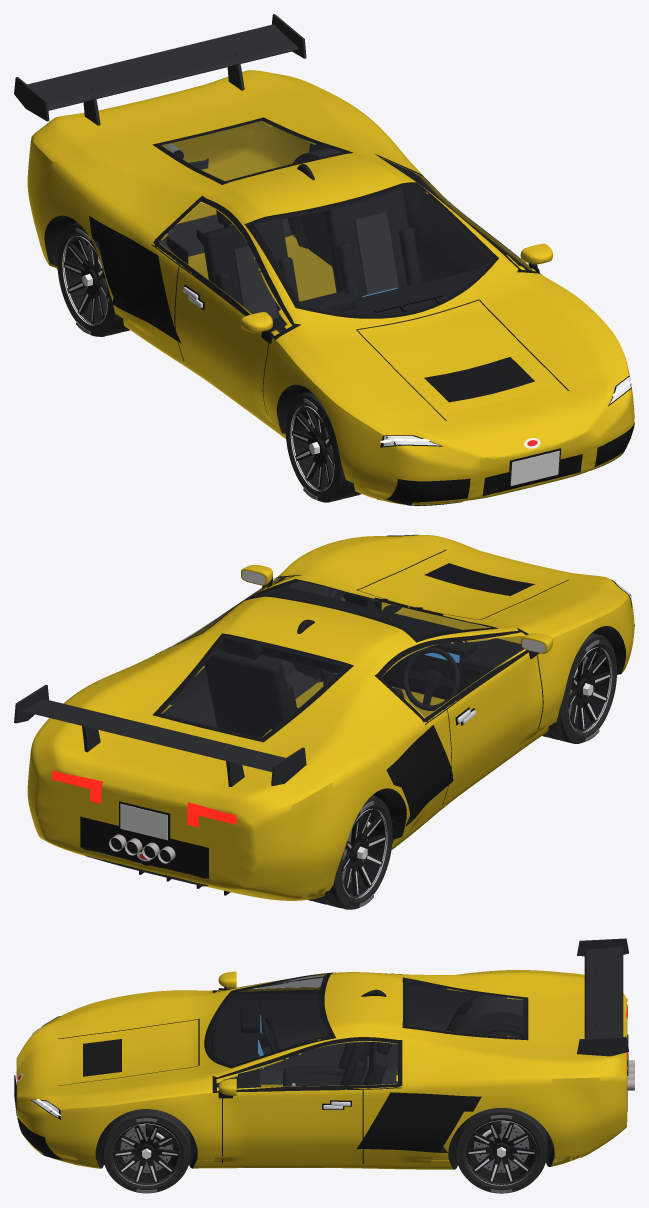
Rendered from corvette.glb.
3 views of the same model, one above another, from view 1: azimuth 30°, elevation 25°; view 2: azimuth 150°, elevation 25°; view 3: azimuth 270°, elevation 25° (orthographic). The views are drawn at different scales.
Visible parts, largest first — view 1: Body, Wheel_FR, Wheel_RR; view 2: Body, Wheel_FR, Wheel_RR, Wheel_FL; view 3: Body, Wheel_RL, Wheel_FL, Wheel_RR.
Boxes of the visible parts, x1,y1,x2,y2 form: Body: [14, 14, 634, 505]; Wheel_FR: [285, 391, 360, 502]; Wheel_RR: [57, 222, 129, 336]; Body: [14, 534, 634, 900]; Wheel_FR: [542, 633, 616, 743]; Wheel_RR: [308, 795, 392, 909]; Wheel_FL: [316, 589, 374, 681]; Body: [14, 938, 634, 1169]; Wheel_RL: [455, 1108, 547, 1193]; Wheel_FL: [102, 1109, 190, 1193]; Wheel_RR: [470, 1022, 522, 1037].
Bounding box in the file's own units: 2.13 × 1.3 × 4.76.
